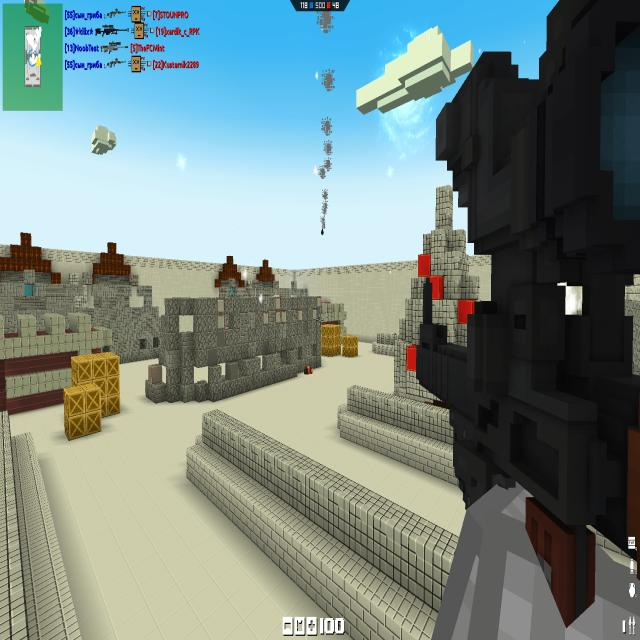player: (304, 364, 313, 375)
